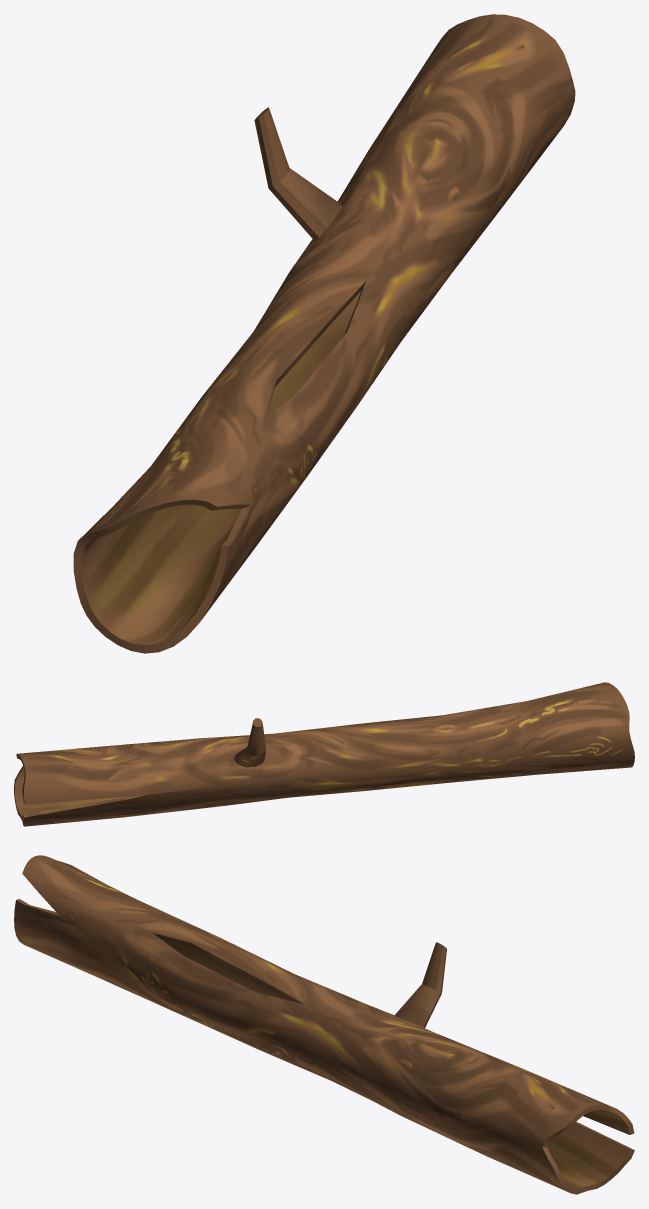
File: TRONCO PISO.fbx
The picture shows the model from 3 angles, top to bottom: view 1: azimuth 30°, elevation 25°; view 2: azimuth 150°, elevation 25°; view 3: azimuth 270°, elevation 25°; orthographic projection. The views are drawn at different scales.
Visible parts, largest first — view 1: Cylinder; view 2: Cylinder; view 3: Cylinder.
Boxes of the visible parts, bbox=[...] form: Cylinder: bbox=[73, 14, 575, 653]; Cylinder: bbox=[14, 682, 634, 826]; Cylinder: bbox=[14, 855, 634, 1194].
Size of the model in its own units: 792 by 187 by 753.
